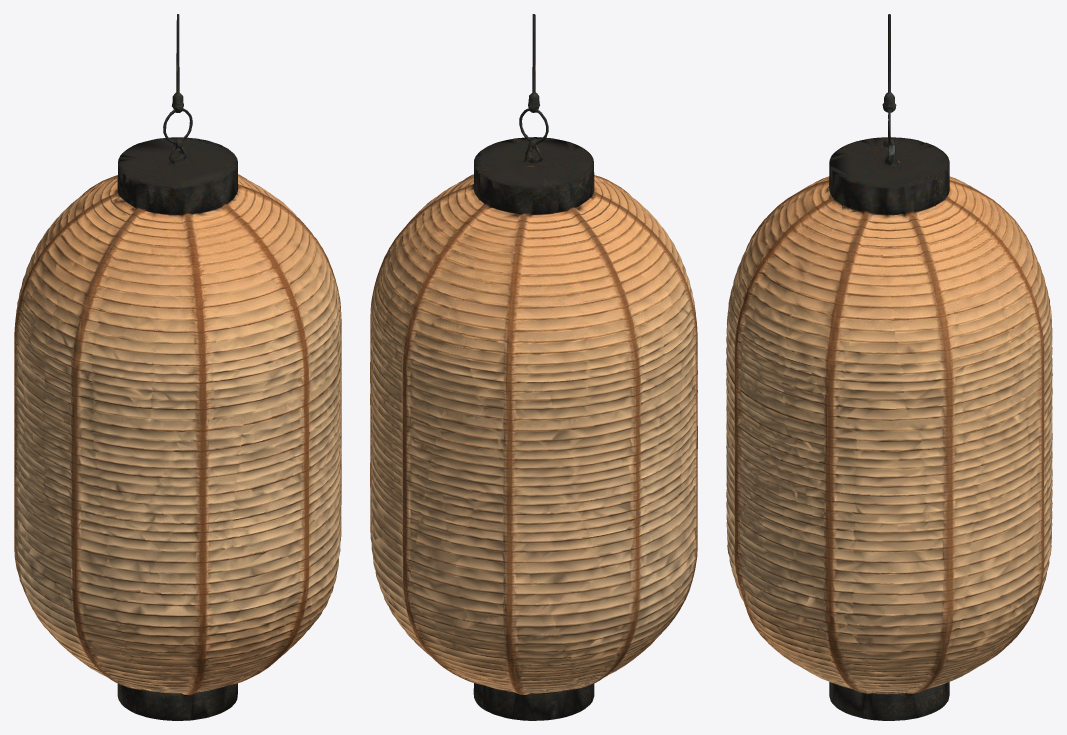
File: lantern.glb
3 renders of one model, left to right at view 1: azimuth 30°, elevation 25°; view 2: azimuth 150°, elevation 25°; view 3: azimuth 270°, elevation 25°, orthographic.
Visible parts, largest first — view 1: mesh_node; view 2: mesh_node; view 3: mesh_node.
Part boxes in pixels (<box>): mesh_node: <box>14,14,341,720</box>; mesh_node: <box>370,14,697,720</box>; mesh_node: <box>726,14,1052,720</box>.
Size of the model in its own units: 0.8246 by 1.9 by 0.8249.
1 material, 1 textured.
